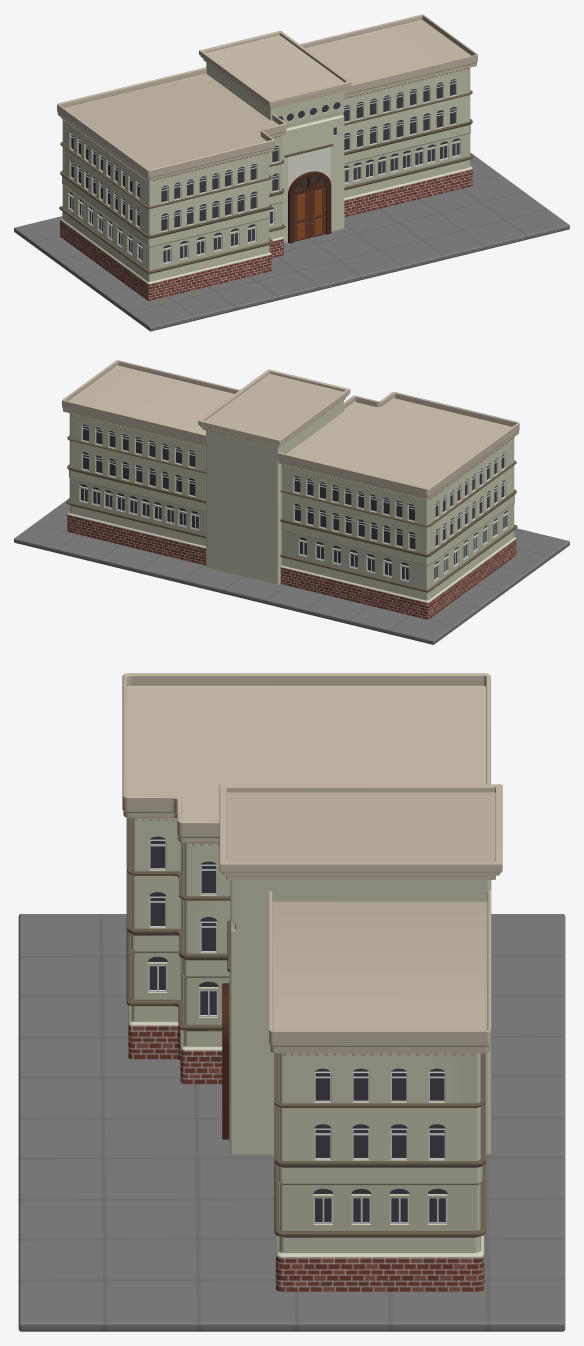
Rendered from Multi-story School.1c192c7f.glb.
The picture shows the model from 3 angles, top to bottom: view 1: azimuth 30°, elevation 25°; view 2: azimuth 150°, elevation 25°; view 3: azimuth 270°, elevation 25°; orthographic projection. The views are drawn at different scales.
Parts seen in each view (by area): view 1: school.1; view 2: school.1; view 3: school.1.
Boxes of the visible parts, box(x1,y1,x2,y2) form: school.1: box(14, 14, 569, 331); school.1: box(14, 360, 569, 644); school.1: box(18, 673, 565, 1331).
Size of the model in its own units: 13.67 by 4.72 by 7.7.
1 material, 1 textured.
